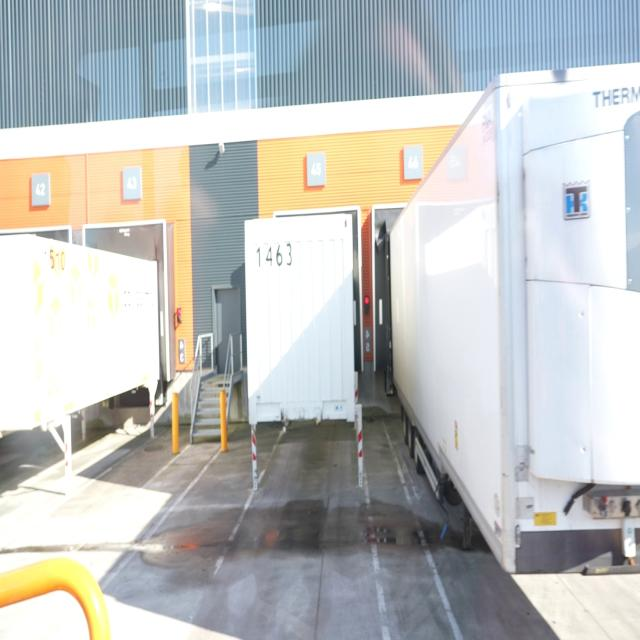Code: (253, 239, 294, 270)
